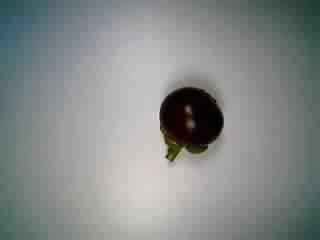mangosteen: (152, 83, 224, 164)
